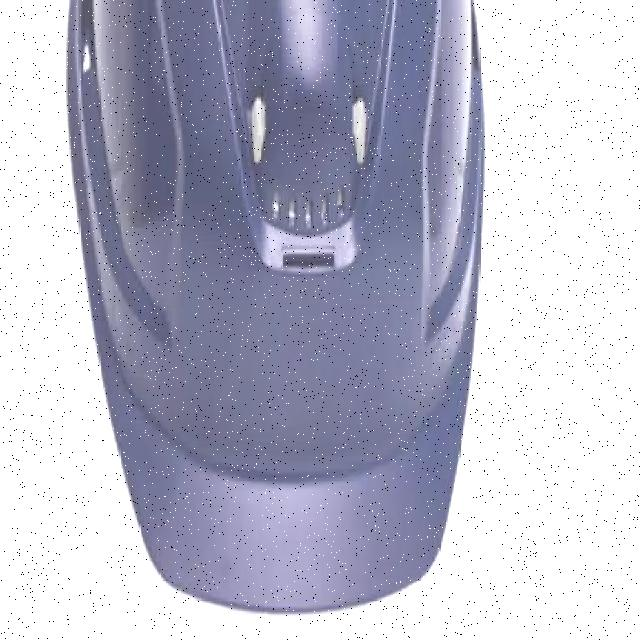Helmet: (61, 0, 489, 638)
